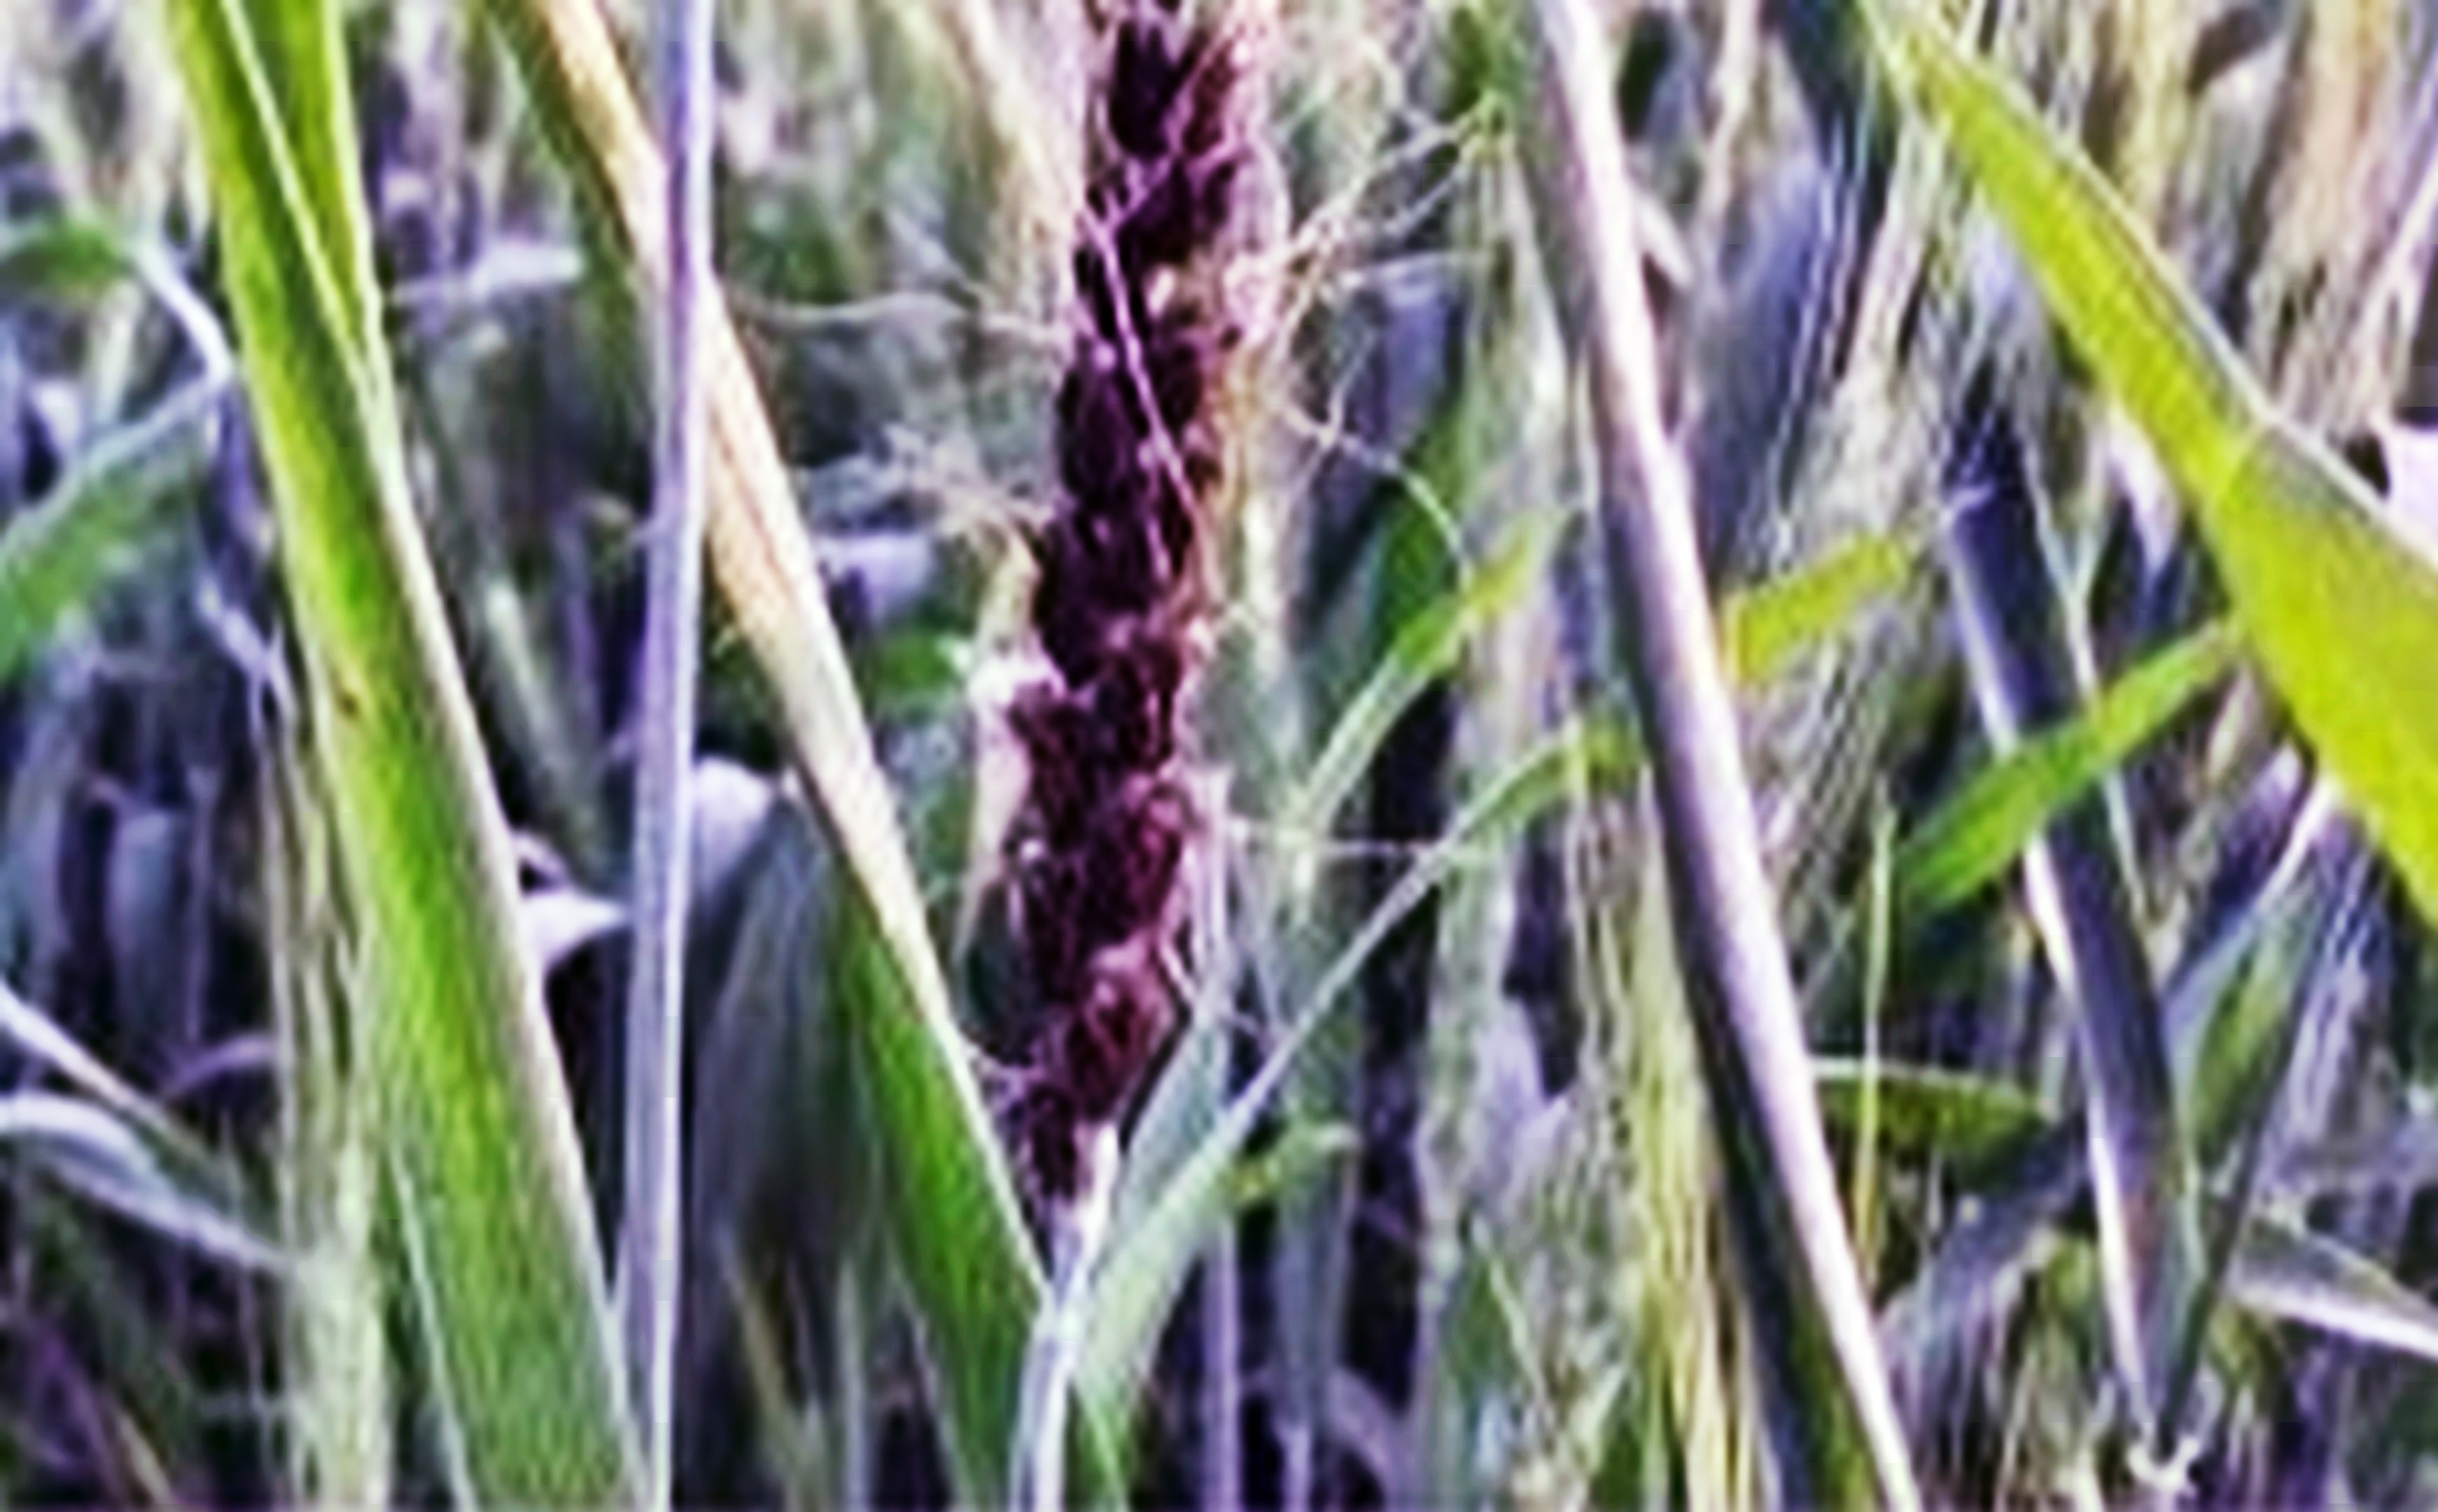Wheat Loose Smut: (991, 0, 1296, 1136)
